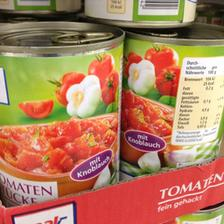Tomatensauce: (0, 18, 122, 204), (124, 26, 220, 174)
